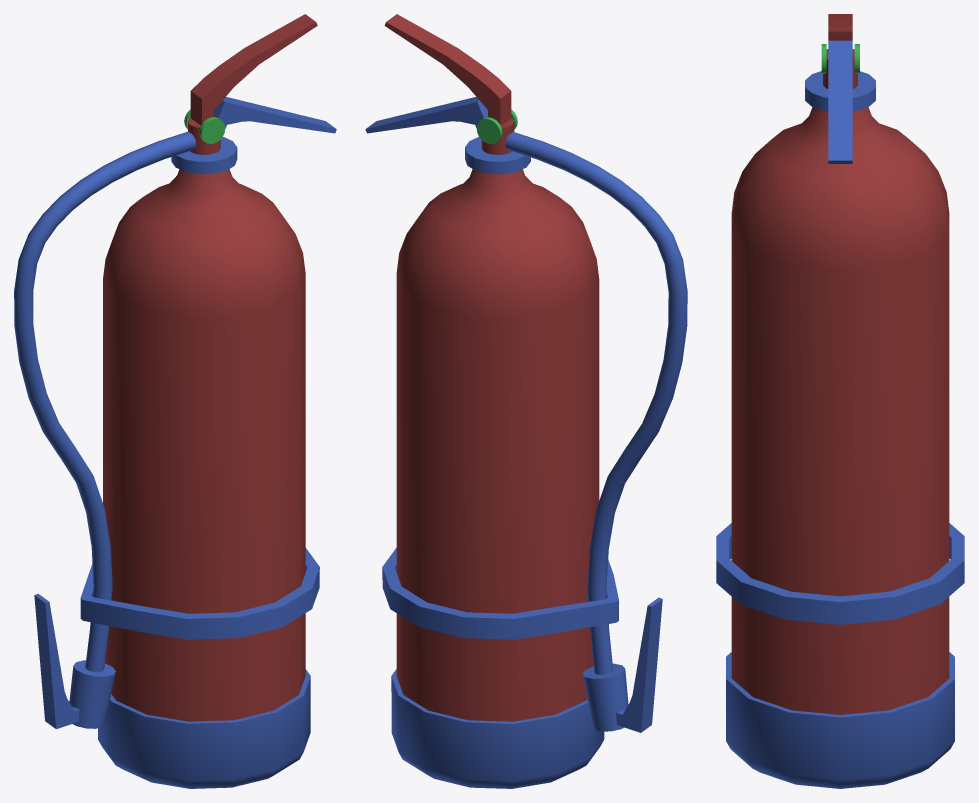
Rendered from extincteur.FBX.
The picture shows the model from 3 angles, left to right: view 1: azimuth 30°, elevation 25°; view 2: azimuth 150°, elevation 25°; view 3: azimuth 270°, elevation 25°; orthographic projection. The views are drawn at different scales.
Visible parts, largest first — view 1: Capsule001; view 2: Capsule001; view 3: Capsule001.
Part boxes in pixels (x1,y1,x2,y2): Capsule001: (14, 14, 336, 788); Capsule001: (365, 14, 687, 788); Capsule001: (716, 14, 964, 788).
Bounding box in the file's own units: 28.69 × 61.29 × 17.79.
